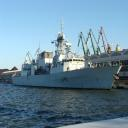Fragata: (12, 13, 125, 93)
